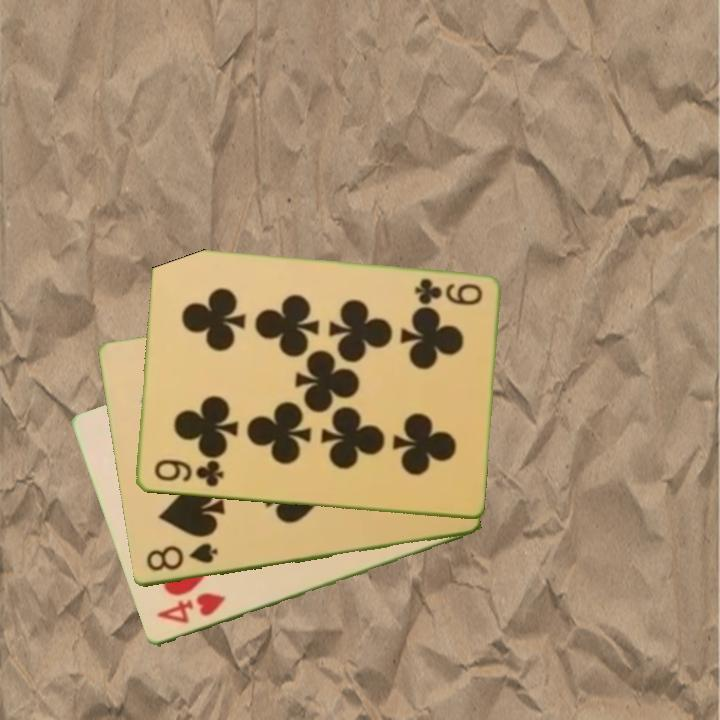4h: (153, 589, 229, 627)
8s: (142, 540, 220, 575)
9c: (150, 456, 226, 490), (410, 275, 485, 309)
